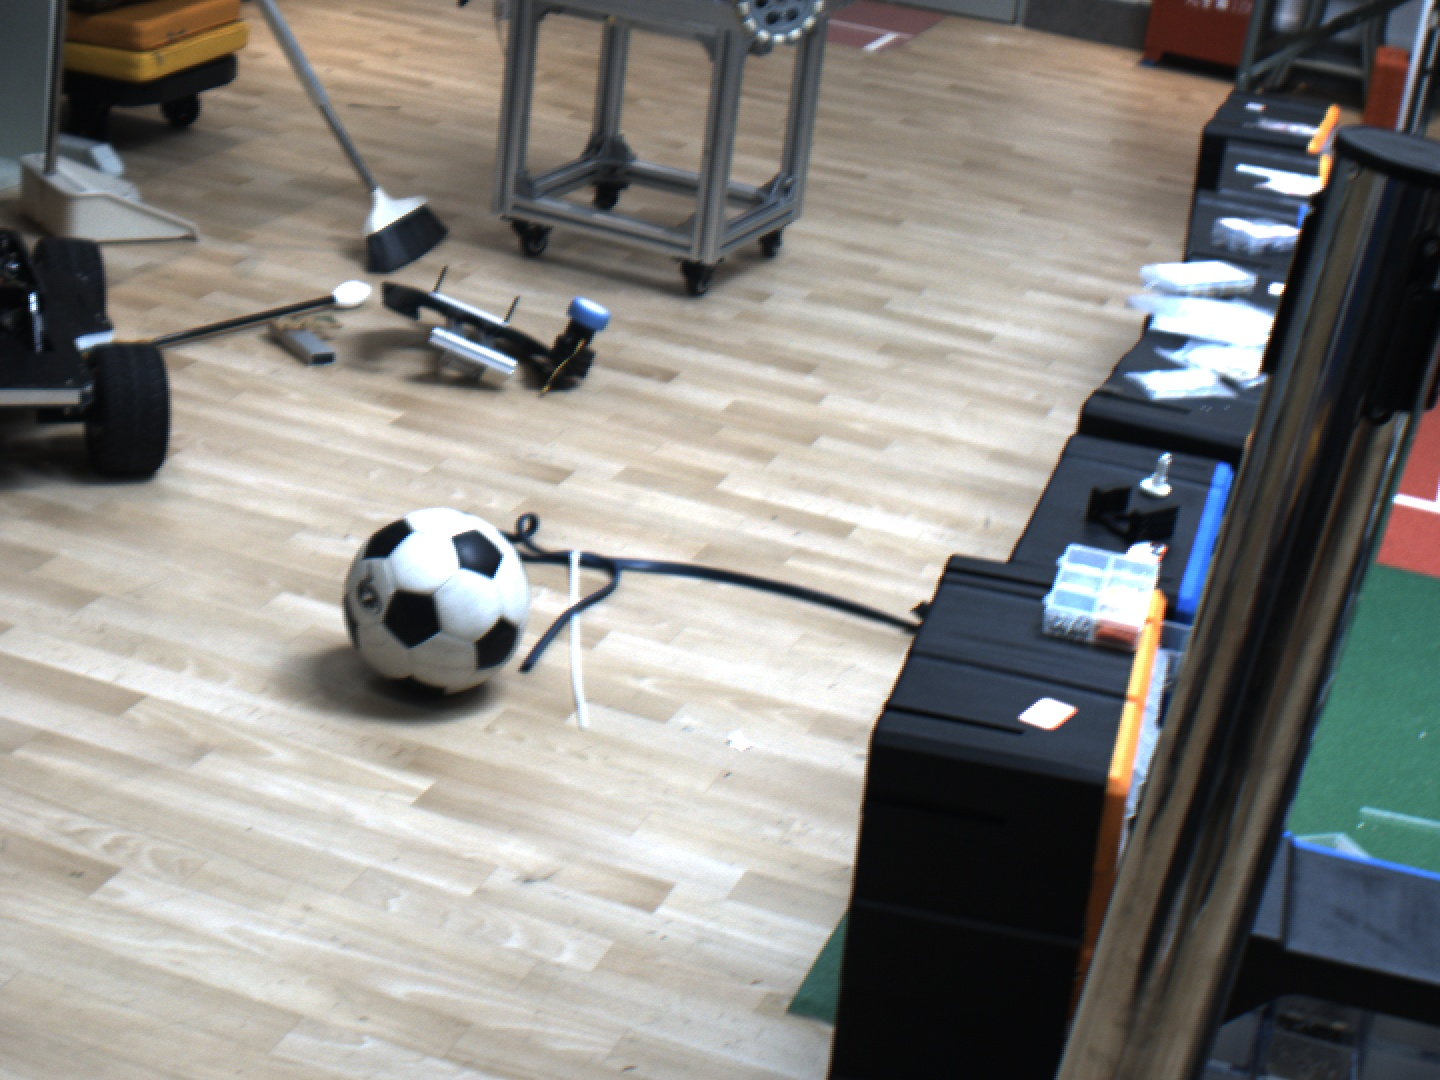ball: (327, 493, 543, 709)
